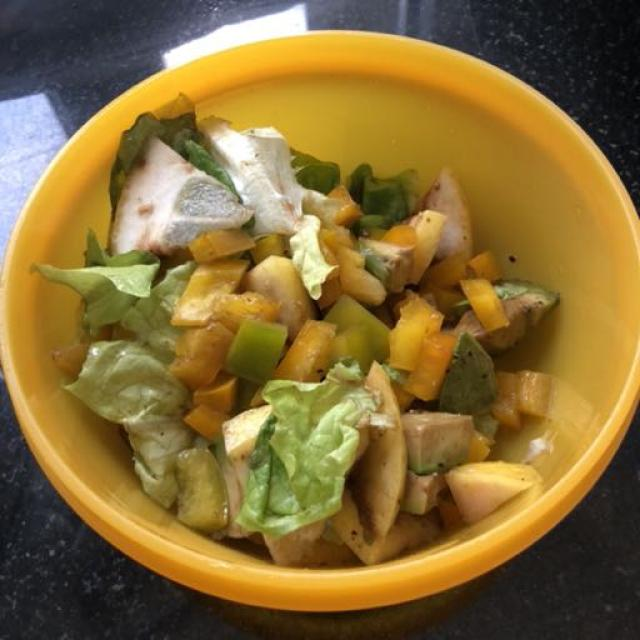avocado: (400, 278, 567, 480)
bell-pepper-red-raw: (167, 209, 554, 433)
salad-leaf-salad-green: (58, 120, 404, 547)
